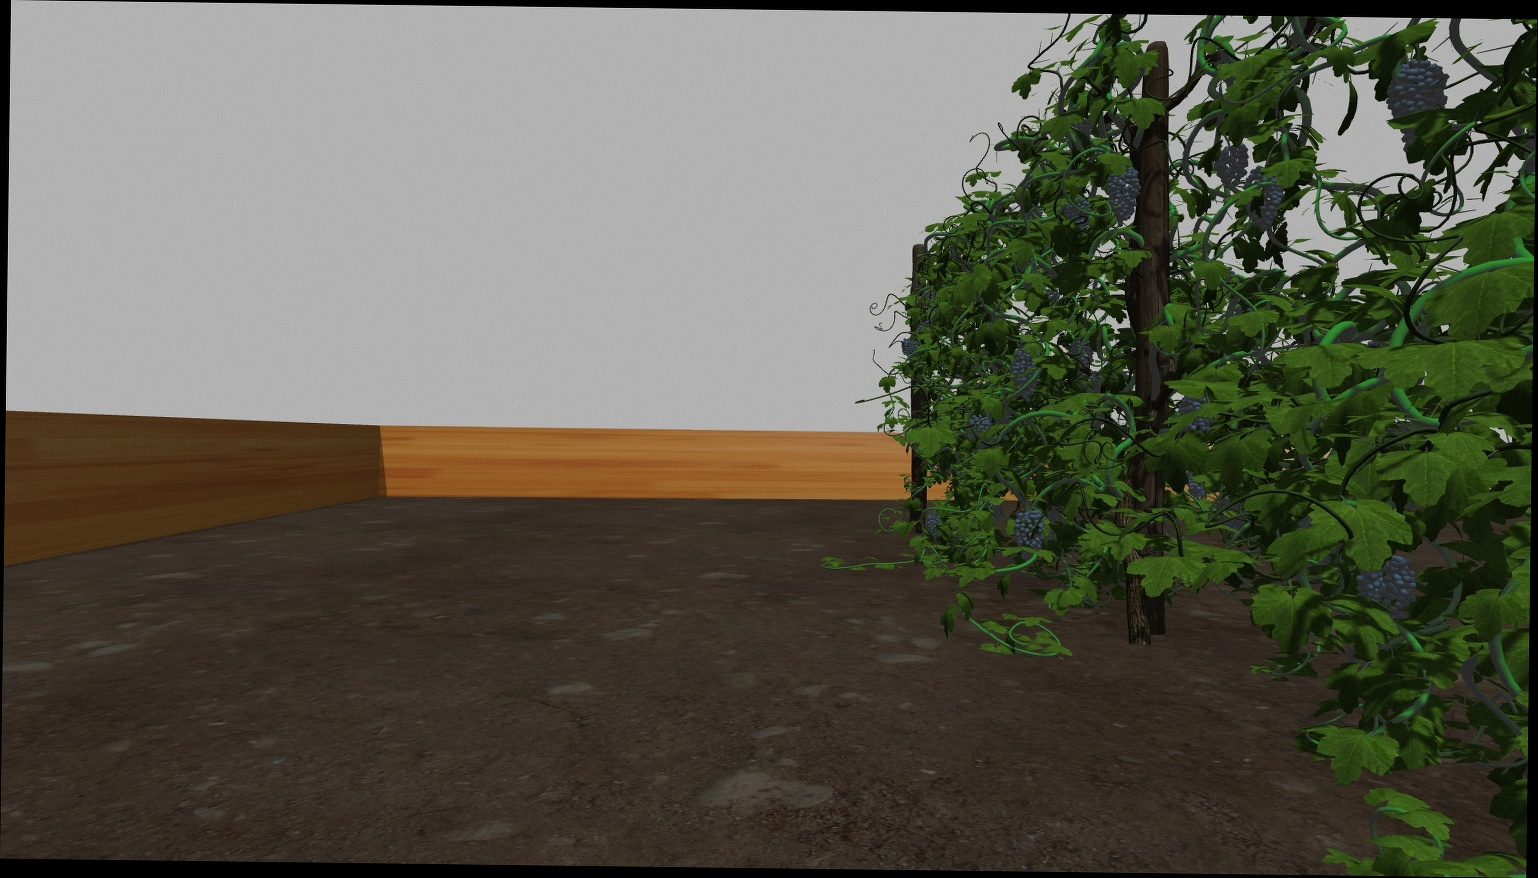grape: (1384, 60, 1448, 142), (1242, 166, 1282, 229), (1105, 166, 1142, 227), (1383, 556, 1417, 614), (1217, 141, 1250, 189), (1011, 349, 1039, 400), (1015, 510, 1046, 554), (1355, 567, 1385, 608), (1062, 197, 1091, 229), (924, 513, 944, 539), (900, 335, 920, 357), (969, 413, 991, 433)
